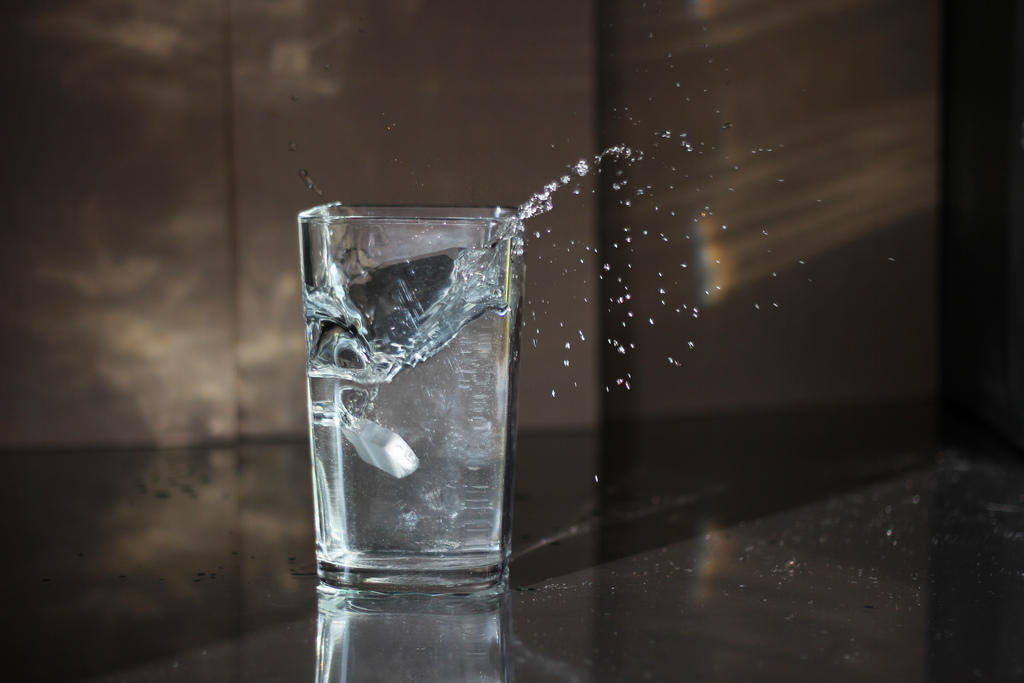glass of water: (299, 205, 509, 574)
